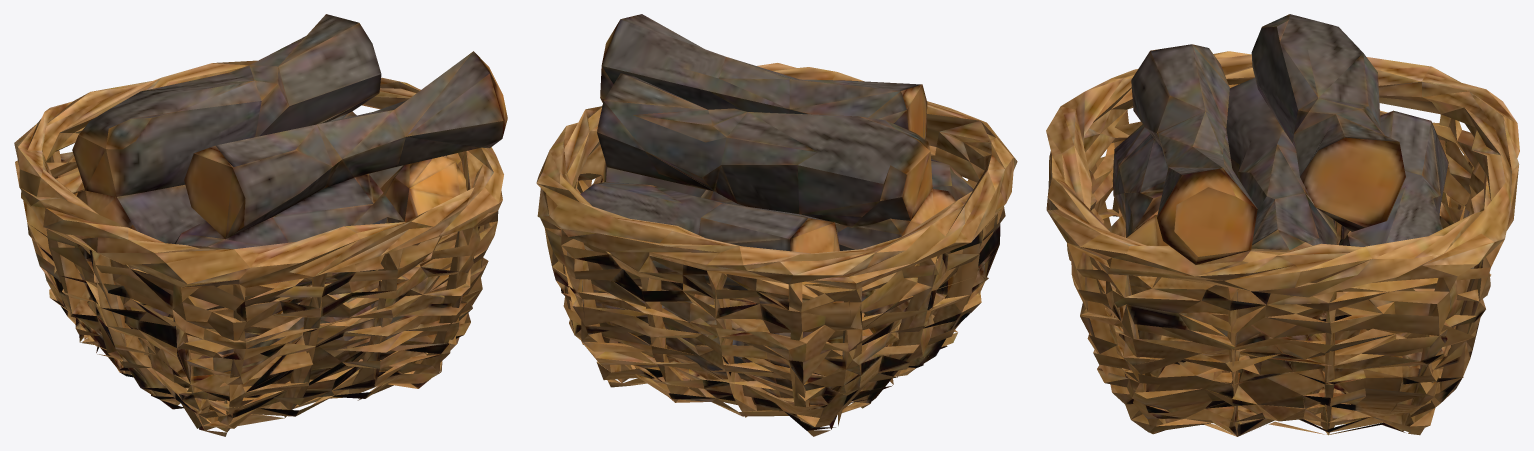
Rendered from log_basket.glb.
The picture shows the model from 3 angles, left to right: view 1: azimuth 30°, elevation 25°; view 2: azimuth 150°, elevation 25°; view 3: azimuth 270°, elevation 25°; orthographic projection. The views are drawn at different scales.
Bounding box in the file's own units: 1.87 × 1.25 × 1.73.
Materials: 1 (1 with a texture image).
